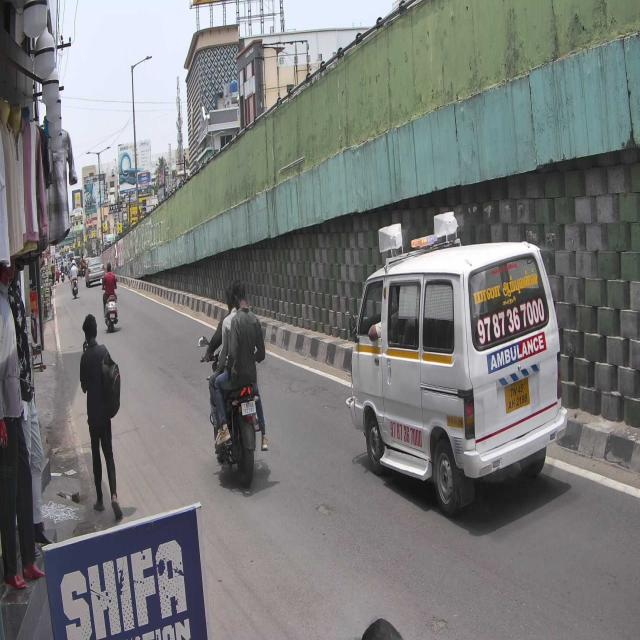triple_rider: (200, 275, 270, 486)
